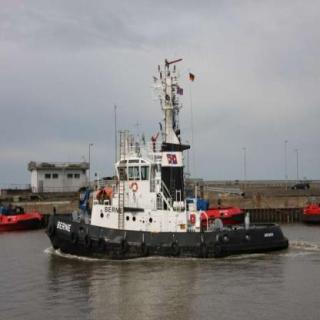Tug Boat: (32, 60, 287, 253)
